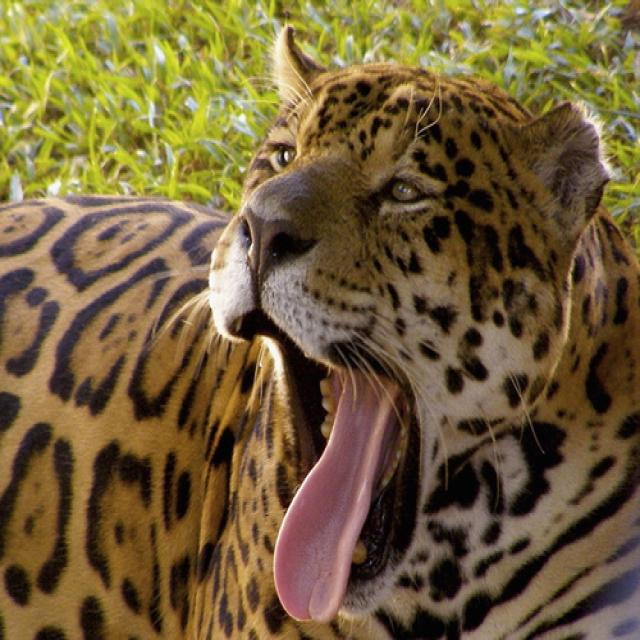Leopard: (0, 24, 636, 635)
